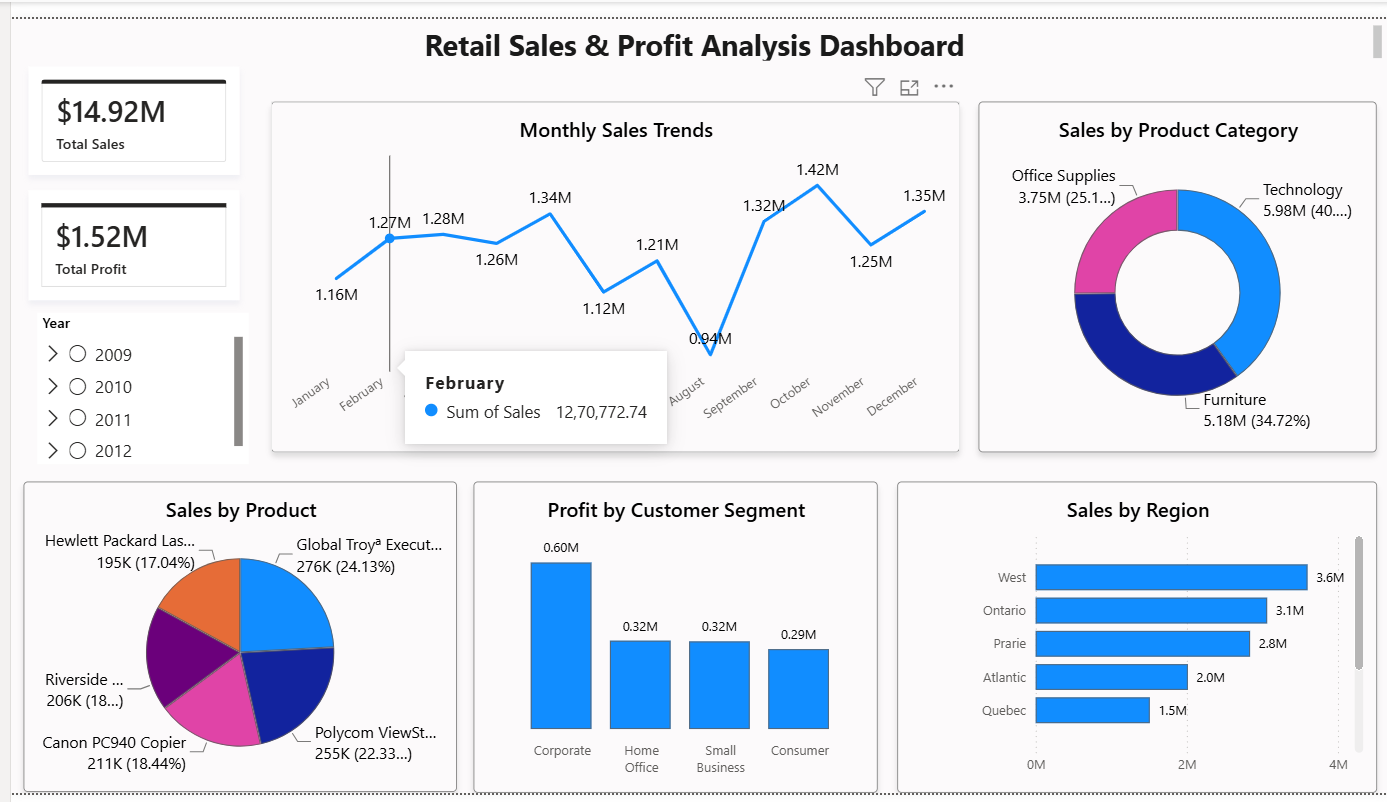

The page's visual inventory and layout, read from the dashboard file:
{"tool":"powerbi","page":{"name":"Page 1","canvas":[1280,720],"ordinal":0},"visuals":[{"type":"clusteredBarChart","title":"Sales by Region","fields":{"Category":["Sheet1.Region"],"Y":["Sheet1.Total Sales"]},"box":[823.9,430.4,446.8,289.7],"z":0},{"type":"cardVisual","fields":{"Data":["Sheet1.Total Sales"]},"box":[16.4,43.7,196.8,101.1],"z":1000},{"type":"cardVisual","fields":{"Data":["Sheet1.Total Profit"]},"box":[16.4,159.9,196.8,102.5],"z":5000},{"type":"donutChart","title":"Sales by Product Category","fields":{"Y":["Sum(Sheet1.Sales)"],"Category":["Sheet1.Product_Category"]},"box":[900.2,76.8,370.5,326.6],"z":6000},{"type":"pieChart","title":"Sales by Product","fields":{"Y":["Sum(Sheet1.Sales)"],"Category":["Sheet1.Product_Name"]},"box":[11.2,430,403.5,289],"z":7000},{"type":"columnChart","title":"Profit by Customer Segment","fields":{"Category":["Sheet1.Customer_Segment"],"Y":["Sum(Sheet1.Profit)"]},"box":[430.4,430.4,375.7,289.7],"z":8000},{"type":"lineChart","title":"Monthly Sales Trends","fields":{"Category":["Sheet1.Order_Date.Variation.Date Hierarchy.Month"],"Y":["Sum(Sheet1.Sales)"]},"box":[241.5,76.8,640.8,326.6],"z":10000},{"type":"textbox","box":[0,1.4,1280,42.9],"z":11000},{"type":"listSlicer","fields":{"Values":["Sheet1.Order_Date.Variation.Date Hierarchy.Year","Sheet1.Order_Date.Variation.Date Hierarchy.Quarter","Sheet1.Order_Date.Variation.Date Hierarchy.Month","Sheet1.Order_Date.Variation.Date Hierarchy.Day"]},"box":[24.6,273.3,196.8,140.7],"z":12000}]}

Visuals, with their boxes in screenshot pixels (x1, y1, x2, y2), scaled from the page's 1280x720 canvas onto the 1387x802 screenshot:
"Sales by Region" clusteredBarChart: [x1=893, y1=479, x2=1377, y2=801]
cardVisual - Sheet1.Total Sales: [x1=18, y1=49, x2=231, y2=161]
cardVisual - Sheet1.Total Profit: [x1=18, y1=178, x2=231, y2=292]
"Sales by Product Category" donutChart: [x1=975, y1=86, x2=1377, y2=449]
"Sales by Product" pieChart: [x1=12, y1=479, x2=449, y2=801]
"Profit by Customer Segment" columnChart: [x1=466, y1=479, x2=873, y2=801]
"Monthly Sales Trends" lineChart: [x1=262, y1=86, x2=956, y2=449]
textbox: [x1=0, y1=2, x2=1386, y2=49]
listSlicer - Sheet1.Order_Date.Variation.Date Hierarchy.Year x Sheet1.Order_Date.Variation.Date Hierarchy.Quarter: [x1=27, y1=304, x2=240, y2=461]
